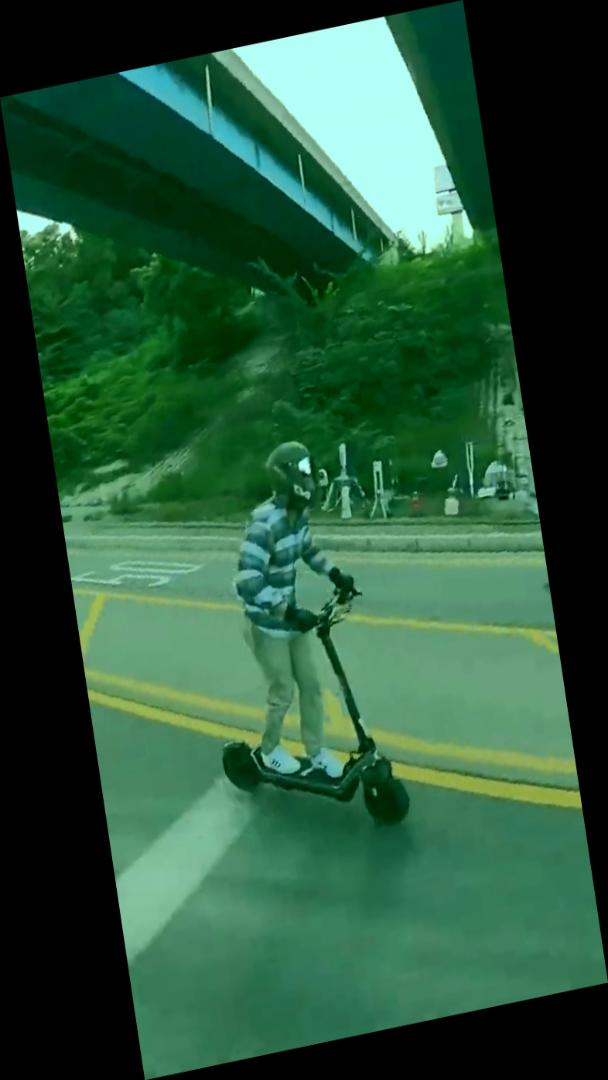helmet: (177, 427, 413, 859)
